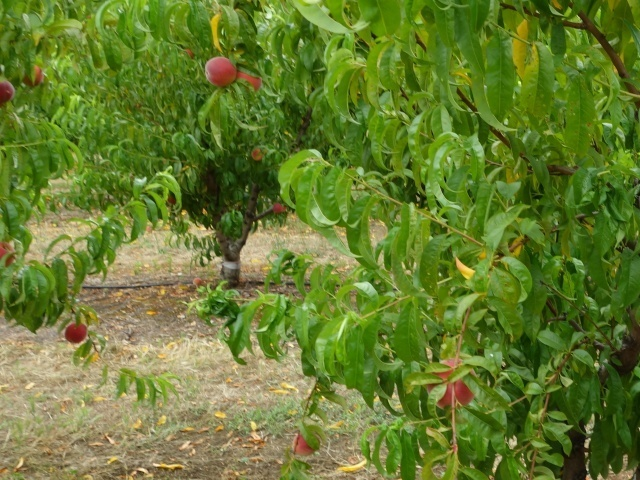peach: (423, 355, 484, 413), (200, 55, 241, 89), (228, 60, 265, 96), (289, 429, 322, 458), (62, 318, 92, 349), (18, 63, 48, 90), (1, 75, 17, 110), (1, 239, 17, 270)
